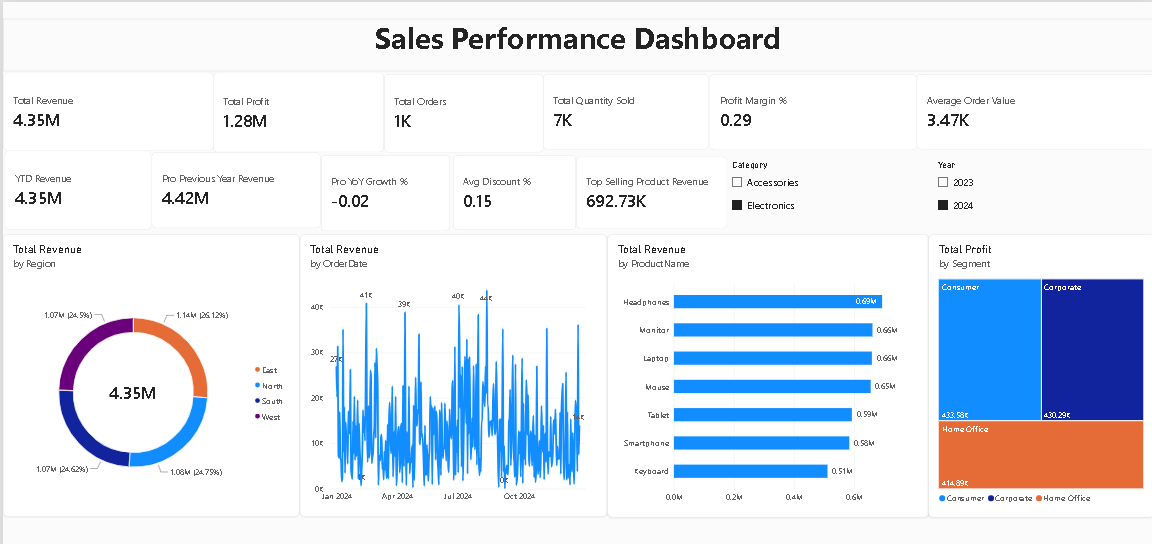

Layout of this report page (visuals, bound fields, positions):
{"tool":"powerbi","page":{"name":"Page 1","canvas":[1920,1080],"ordinal":0},"visuals":[{"type":"cardVisual","fields":{"Data":["sales_data.Total Revenue"]},"box":[0,117.5,351.2,130],"z":0},{"type":"donutChart","fields":{"Category":["sales_data.Region"],"Y":["sales_data.Total Revenue"]},"box":[0,388,494,470],"z":1000},{"type":"cardVisual","fields":{"Data":["sales_data.Total Profit"]},"box":[350,117.5,285,133.8],"z":2000},{"type":"cardVisual","fields":{"Data":["sales_data.Total Orders"]},"box":[635,120,266.2,131.2],"z":3000},{"type":"cardVisual","fields":{"Data":["sales_data.Total Quantity Sold"]},"box":[900,121.1,276.7,126.7],"z":4000},{"type":"cardVisual","fields":{"Data":["sales_data.Profit Margin %"]},"box":[1177.8,120,345.6,127.8],"z":5000},{"type":"cardVisual","fields":{"Data":["sales_data.Average Order Value"]},"box":[1523.3,121.1,397.8,126.7],"z":6000},{"type":"cardVisual","fields":{"Data":["sales_data.YTD Revenue"]},"box":[2.5,247.5,245,132.5],"z":7000},{"type":"cardVisual","fields":{"Data":["sales_data.Pro Previous Year Revenue"]},"box":[247.5,250,282.5,127.5],"z":8000},{"type":"cardVisual","fields":{"Data":["sales_data.Pro YoY Growth %"]},"box":[530,255,215,127.5],"z":9000},{"type":"cardVisual","fields":{"Data":["sales_data.Top Selling Product Revenue"]},"box":[955,257.5,252.5,120],"z":10000},{"type":"cardVisual","fields":{"Data":["sales_data.Avg Discount %"]},"box":[750,255,205,125],"z":11000},{"type":"lineChart","fields":{"Category":["sales_data.OrderDate.Variation.Date Hierarchy.Year"],"Y":["sales_data.Total Revenue"]},"box":[494,388,512,470],"z":12000},{"type":"clusteredBarChart","fields":{"Category":["sales_data.ProductName"],"Y":["sales_data.Total Revenue"]},"box":[1007.5,387.5,535,471.2],"z":13000},{"type":"treemap","fields":{"Group":["sales_data.Segment"],"Values":["sales_data.Total Profit"]},"box":[1542.5,387.4,375.9,471.3],"z":14000},{"type":"textbox","box":[0,26.5,1917.6,88.2],"z":15000},{"type":"slicer","fields":{"Values":["sales_data.Category"]},"box":[1207.8,262.2,334.4,115.6],"z":16000},{"type":"slicer","fields":{"Values":["Calendar.Year"]},"box":[1548.9,262.2,362.2,115.6],"z":17000}]}

Visuals, with their boxes on the page's 1920x1080 design canvas (x1, y1, x2, y2). These are canvas units, not pixel positions in the 1152x544 screenshot, which may show the page scaled, cropped or inside an application window:
cardVisual - sales_data.Total Revenue: (left=0, top=118, right=351, bottom=248)
donutChart - sales_data.Region x sales_data.Total Revenue: (left=0, top=388, right=494, bottom=858)
cardVisual - sales_data.Total Profit: (left=350, top=118, right=635, bottom=251)
cardVisual - sales_data.Total Orders: (left=635, top=120, right=901, bottom=251)
cardVisual - sales_data.Total Quantity Sold: (left=900, top=121, right=1177, bottom=248)
cardVisual - sales_data.Profit Margin %: (left=1178, top=120, right=1523, bottom=248)
cardVisual - sales_data.Average Order Value: (left=1523, top=121, right=1921, bottom=248)
cardVisual - sales_data.YTD Revenue: (left=2, top=248, right=248, bottom=380)
cardVisual - sales_data.Pro Previous Year Revenue: (left=248, top=250, right=530, bottom=378)
cardVisual - sales_data.Pro YoY Growth %: (left=530, top=255, right=745, bottom=382)
cardVisual - sales_data.Top Selling Product Revenue: (left=955, top=258, right=1208, bottom=378)
cardVisual - sales_data.Avg Discount %: (left=750, top=255, right=955, bottom=380)
lineChart - sales_data.OrderDate.Variation.Date Hierarchy.Year x sales_data.Total Revenue: (left=494, top=388, right=1006, bottom=858)
clusteredBarChart - sales_data.ProductName x sales_data.Total Revenue: (left=1008, top=388, right=1542, bottom=859)
treemap - sales_data.Segment x sales_data.Total Profit: (left=1542, top=387, right=1918, bottom=859)
textbox: (left=0, top=26, right=1918, bottom=115)
slicer - sales_data.Category: (left=1208, top=262, right=1542, bottom=378)
slicer - Calendar.Year: (left=1549, top=262, right=1911, bottom=378)
